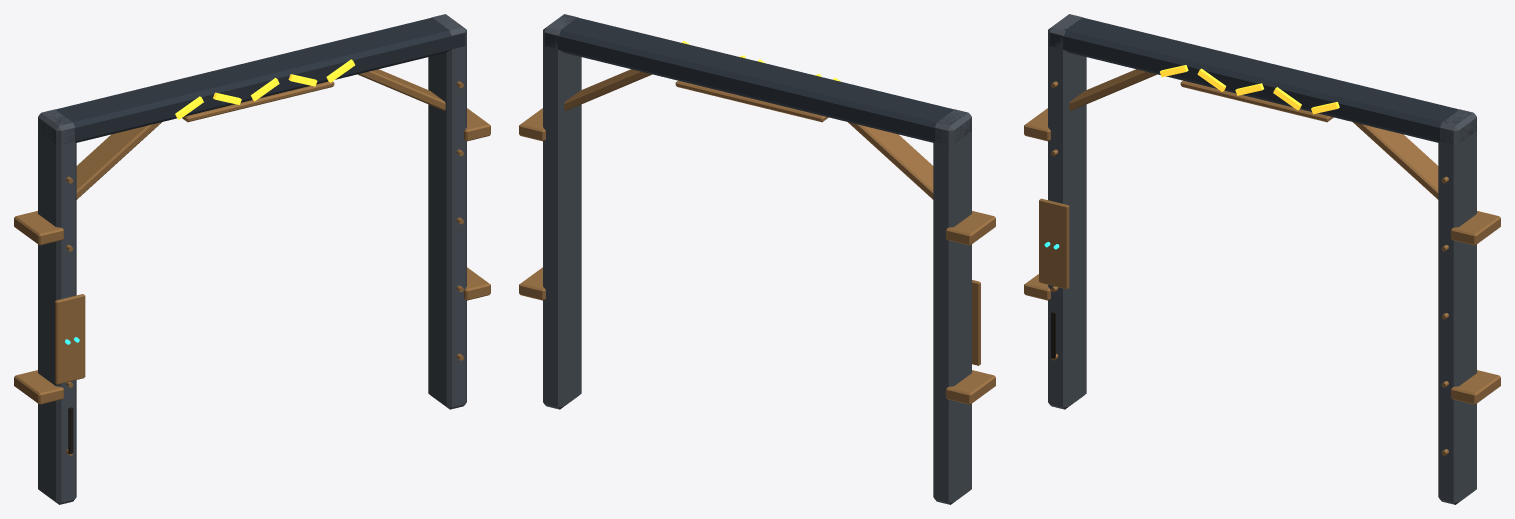
File: runtime.glb
3 renders of one model, left to right at view 1: azimuth 30°, elevation 25°; view 2: azimuth 150°, elevation 25°; view 3: azimuth 330°, elevation 25°, orthographic.
Visible parts, largest first — view 1: kinetic-tide-machine-frame-v02_plate_nocol, kinetic-tide-machine-frame-v02_steel_nocol, kinetic-tide-machine-frame-v02_bronze_nocol, kinetic-tide-machine-frame-v02_warningorange_nocol; view 2: kinetic-tide-machine-frame-v02_plate_nocol, kinetic-tide-machine-frame-v02_steel_nocol, kinetic-tide-machine-frame-v02_bronze_nocol; view 3: kinetic-tide-machine-frame-v02_plate_nocol, kinetic-tide-machine-frame-v02_steel_nocol, kinetic-tide-machine-frame-v02_bronze_nocol, kinetic-tide-machine-frame-v02_warningorange_nocol.
Part boxes in pixels (x1,y1,x2,y2): kinetic-tide-machine-frame-v02_plate_nocol: (38, 14, 466, 504); kinetic-tide-machine-frame-v02_steel_nocol: (38, 14, 465, 143); kinetic-tide-machine-frame-v02_bronze_nocol: (14, 69, 490, 455); kinetic-tide-machine-frame-v02_warningorange_nocol: (175, 59, 354, 119); kinetic-tide-machine-frame-v02_plate_nocol: (543, 14, 971, 504); kinetic-tide-machine-frame-v02_steel_nocol: (544, 15, 971, 144); kinetic-tide-machine-frame-v02_bronze_nocol: (519, 69, 995, 404); kinetic-tide-machine-frame-v02_plate_nocol: (1048, 14, 1476, 504); kinetic-tide-machine-frame-v02_steel_nocol: (1049, 17, 1476, 143); kinetic-tide-machine-frame-v02_bronze_nocol: (1024, 69, 1500, 455); kinetic-tide-machine-frame-v02_warningorange_nocol: (1160, 65, 1339, 114).
Size of the model in its own units: 9.24 by 7.4 by 1.04.
